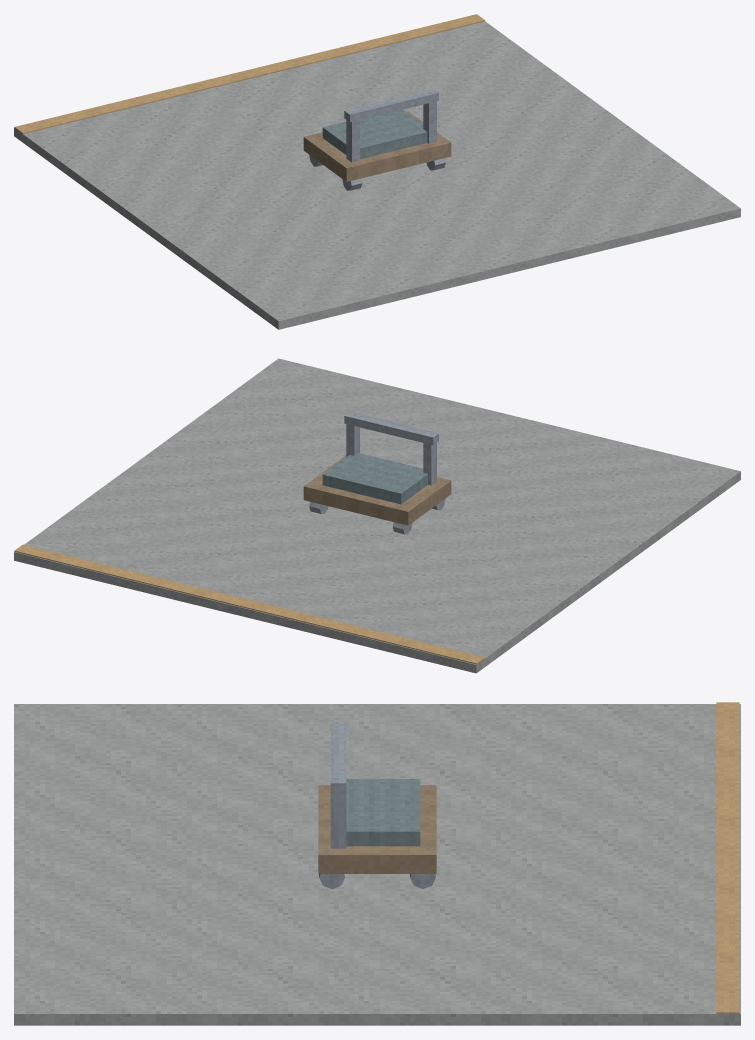
The model's file is level_blockout_kit_wld_15_p08.glb.
3 views of the same model, one above another, from view 1: azimuth 30°, elevation 25°; view 2: azimuth 150°, elevation 25°; view 3: azimuth 270°, elevation 25° (orthographic). The views are drawn at different scales.
Parts seen in each view (by area): view 1: level_blockout_kit_wld_15_p08; view 2: level_blockout_kit_wld_15_p08; view 3: level_blockout_kit_wld_15_p08.
Part boxes in pixels (<box>): level_blockout_kit_wld_15_p08: <box>14,14,740,329</box>; level_blockout_kit_wld_15_p08: <box>14,358,740,673</box>; level_blockout_kit_wld_15_p08: <box>14,702,740,1025</box>.
Size of the model in its own units: 5.65 by 0.995 by 5.6.
5 materials, 5 textured.
